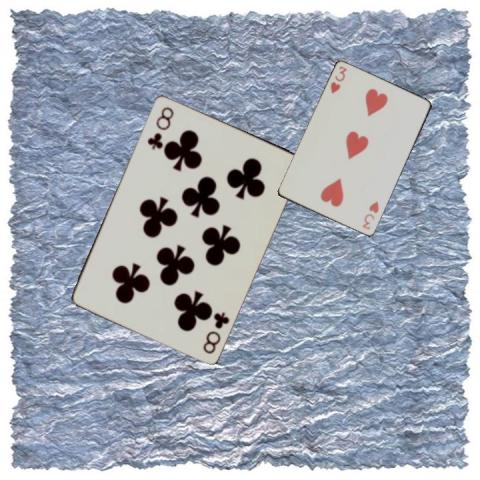3h: (359, 199, 380, 231), (327, 64, 348, 96)
8c: (199, 309, 231, 355), (144, 103, 175, 150)
